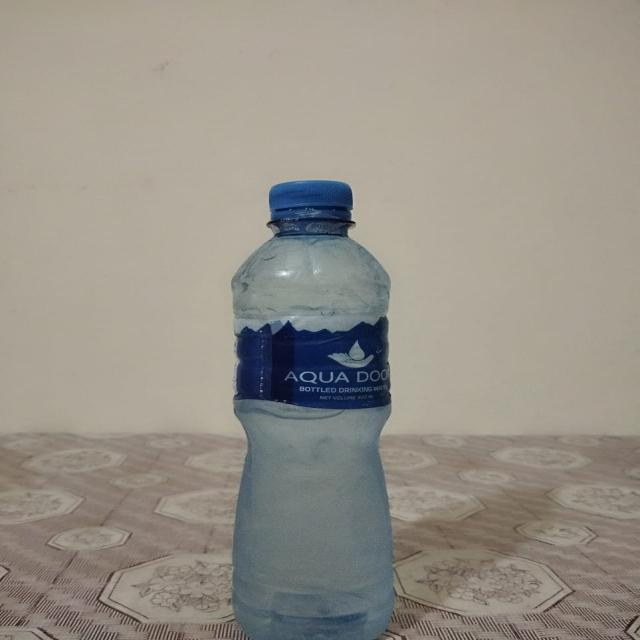bottle: (225, 161, 401, 640)
cap: (259, 180, 363, 223)
label: (230, 311, 394, 413)
